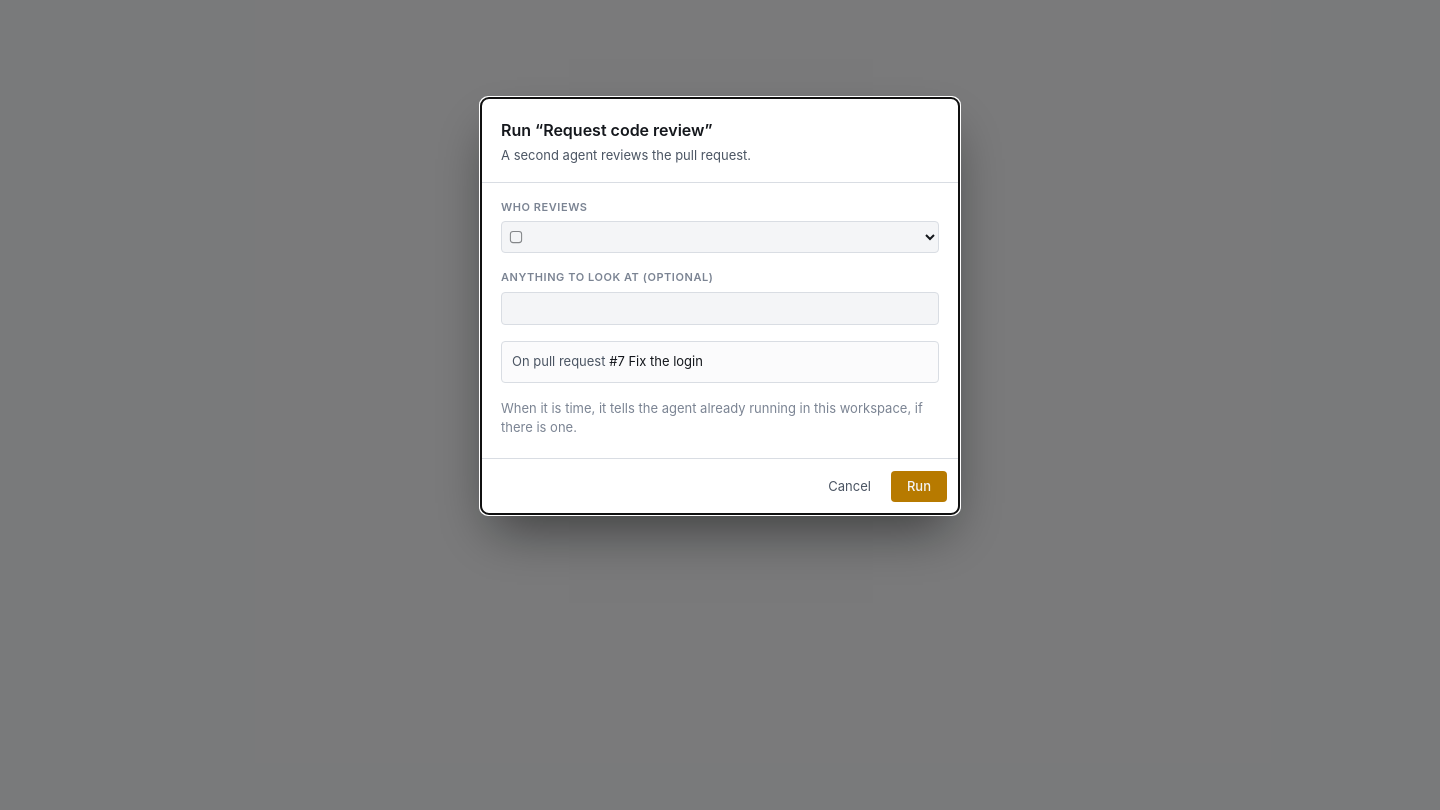
Test: RunWorkflowDialog › shows what the core refused, and stays open to fix it
Expected: the text "#7 Fix the login" is shown, [609,353,703,369]
Click the button "Run": [919, 486] box [891,471,947,502]
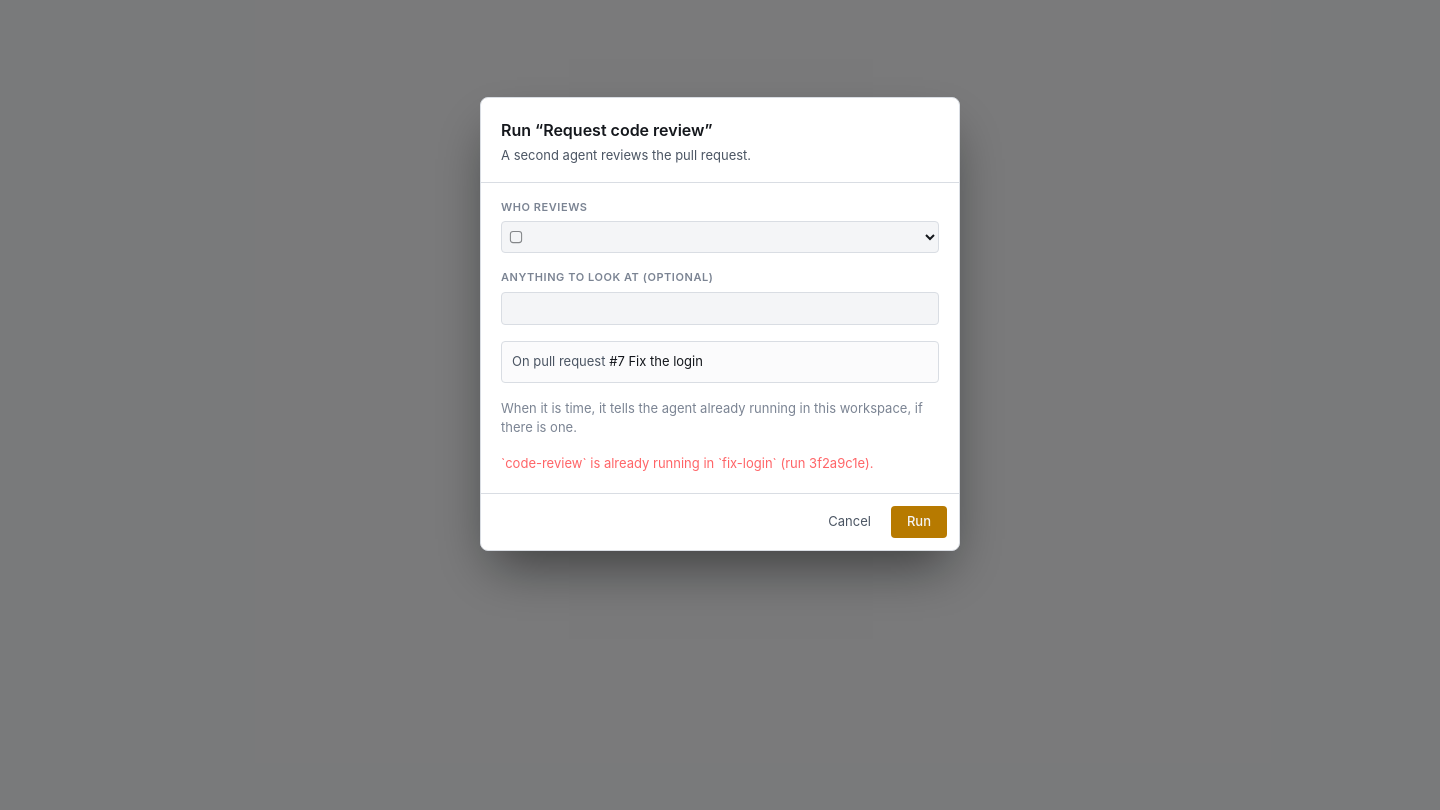
Result: the message shows "already running in `fix-login`" at [501,455,873,471]
